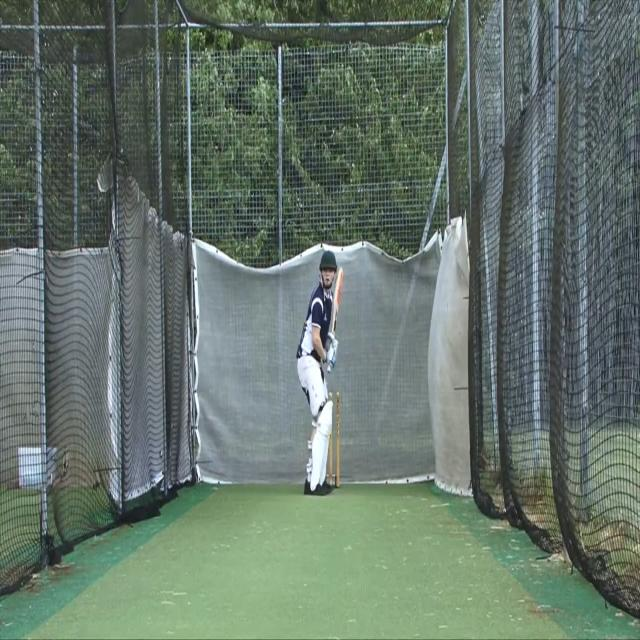batsman: (295, 248, 345, 498)
